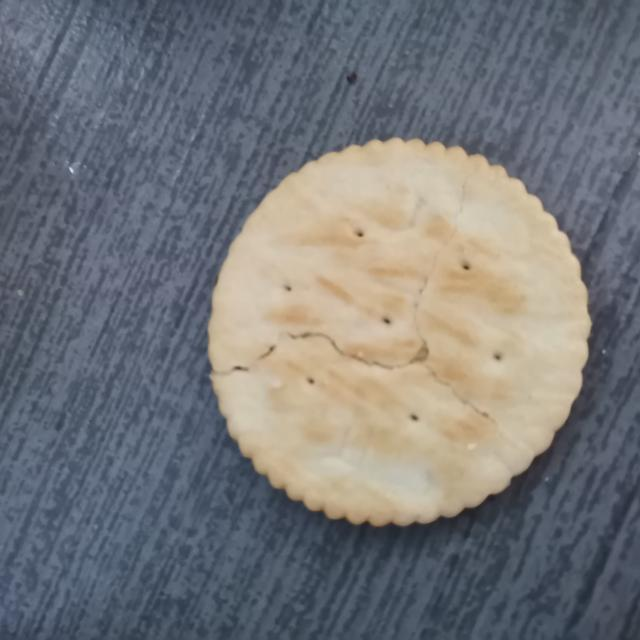Fracture: (207, 154, 556, 462)
